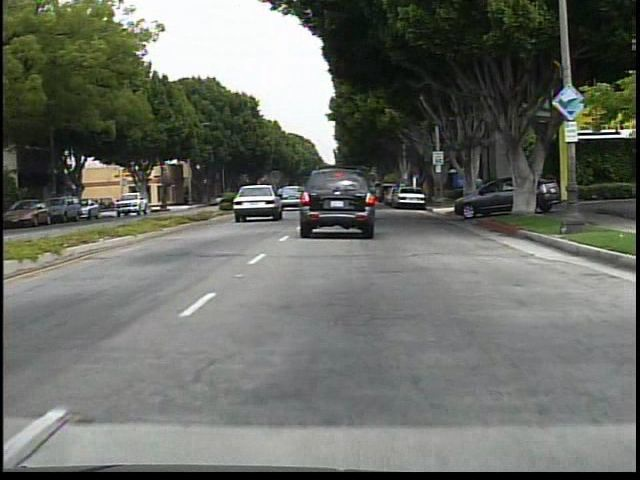person: (470, 170, 488, 209)
